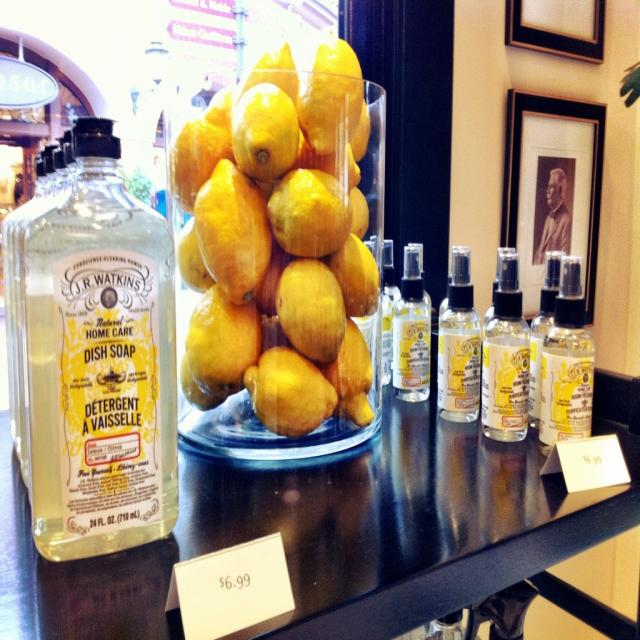Lemon: (176, 38, 379, 438)
